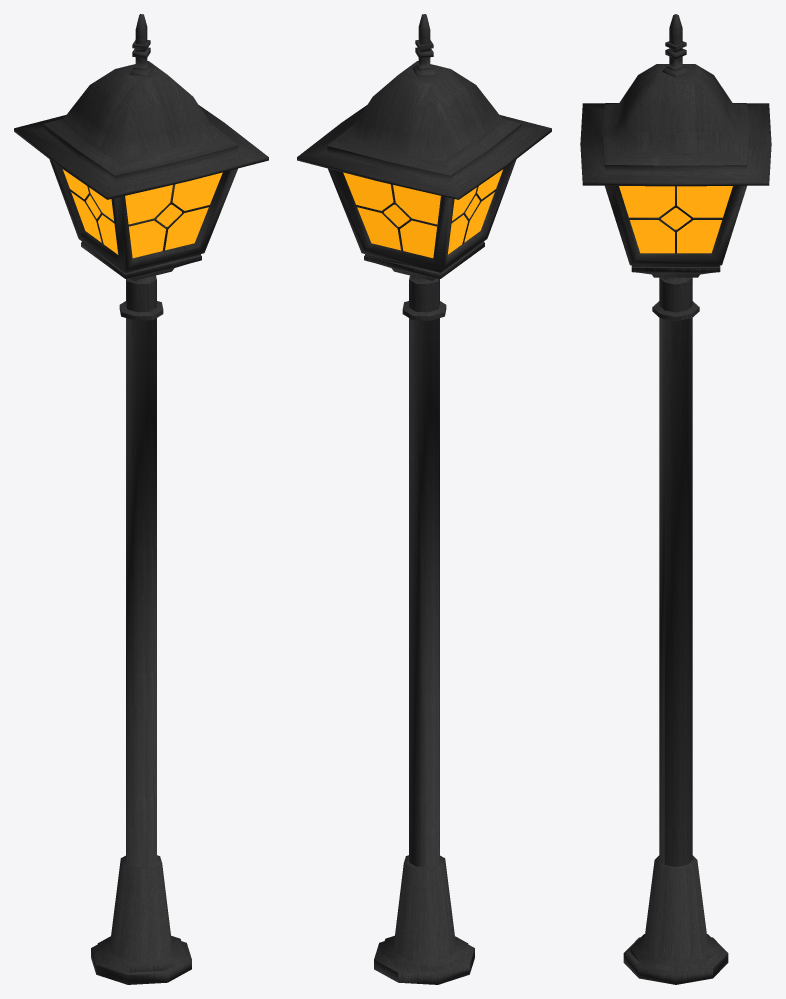
File: prop_streetlight.fbx
The picture shows the model from 3 angles, left to right: view 1: azimuth 30°, elevation 25°; view 2: azimuth 150°, elevation 25°; view 3: azimuth 270°, elevation 25°; orthographic projection.
Visible parts, largest first — view 1: top; view 2: top; view 3: top.
Part boxes in pixels (left/top/right/bottom): top: left=14, top=14, right=268, bottom=984; top: left=297, top=14, right=551, bottom=984; top: left=580, top=14, right=771, bottom=984.
Size of what is drawn, in the model's own units: 77.28 by 423 by 77.28.
2 materials, 1 textured.
